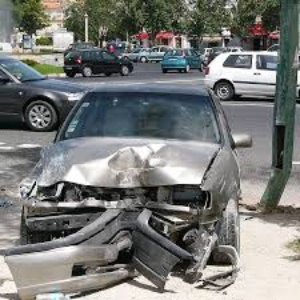bonnet: (39, 135, 204, 190)
bumper: (4, 217, 235, 292)
